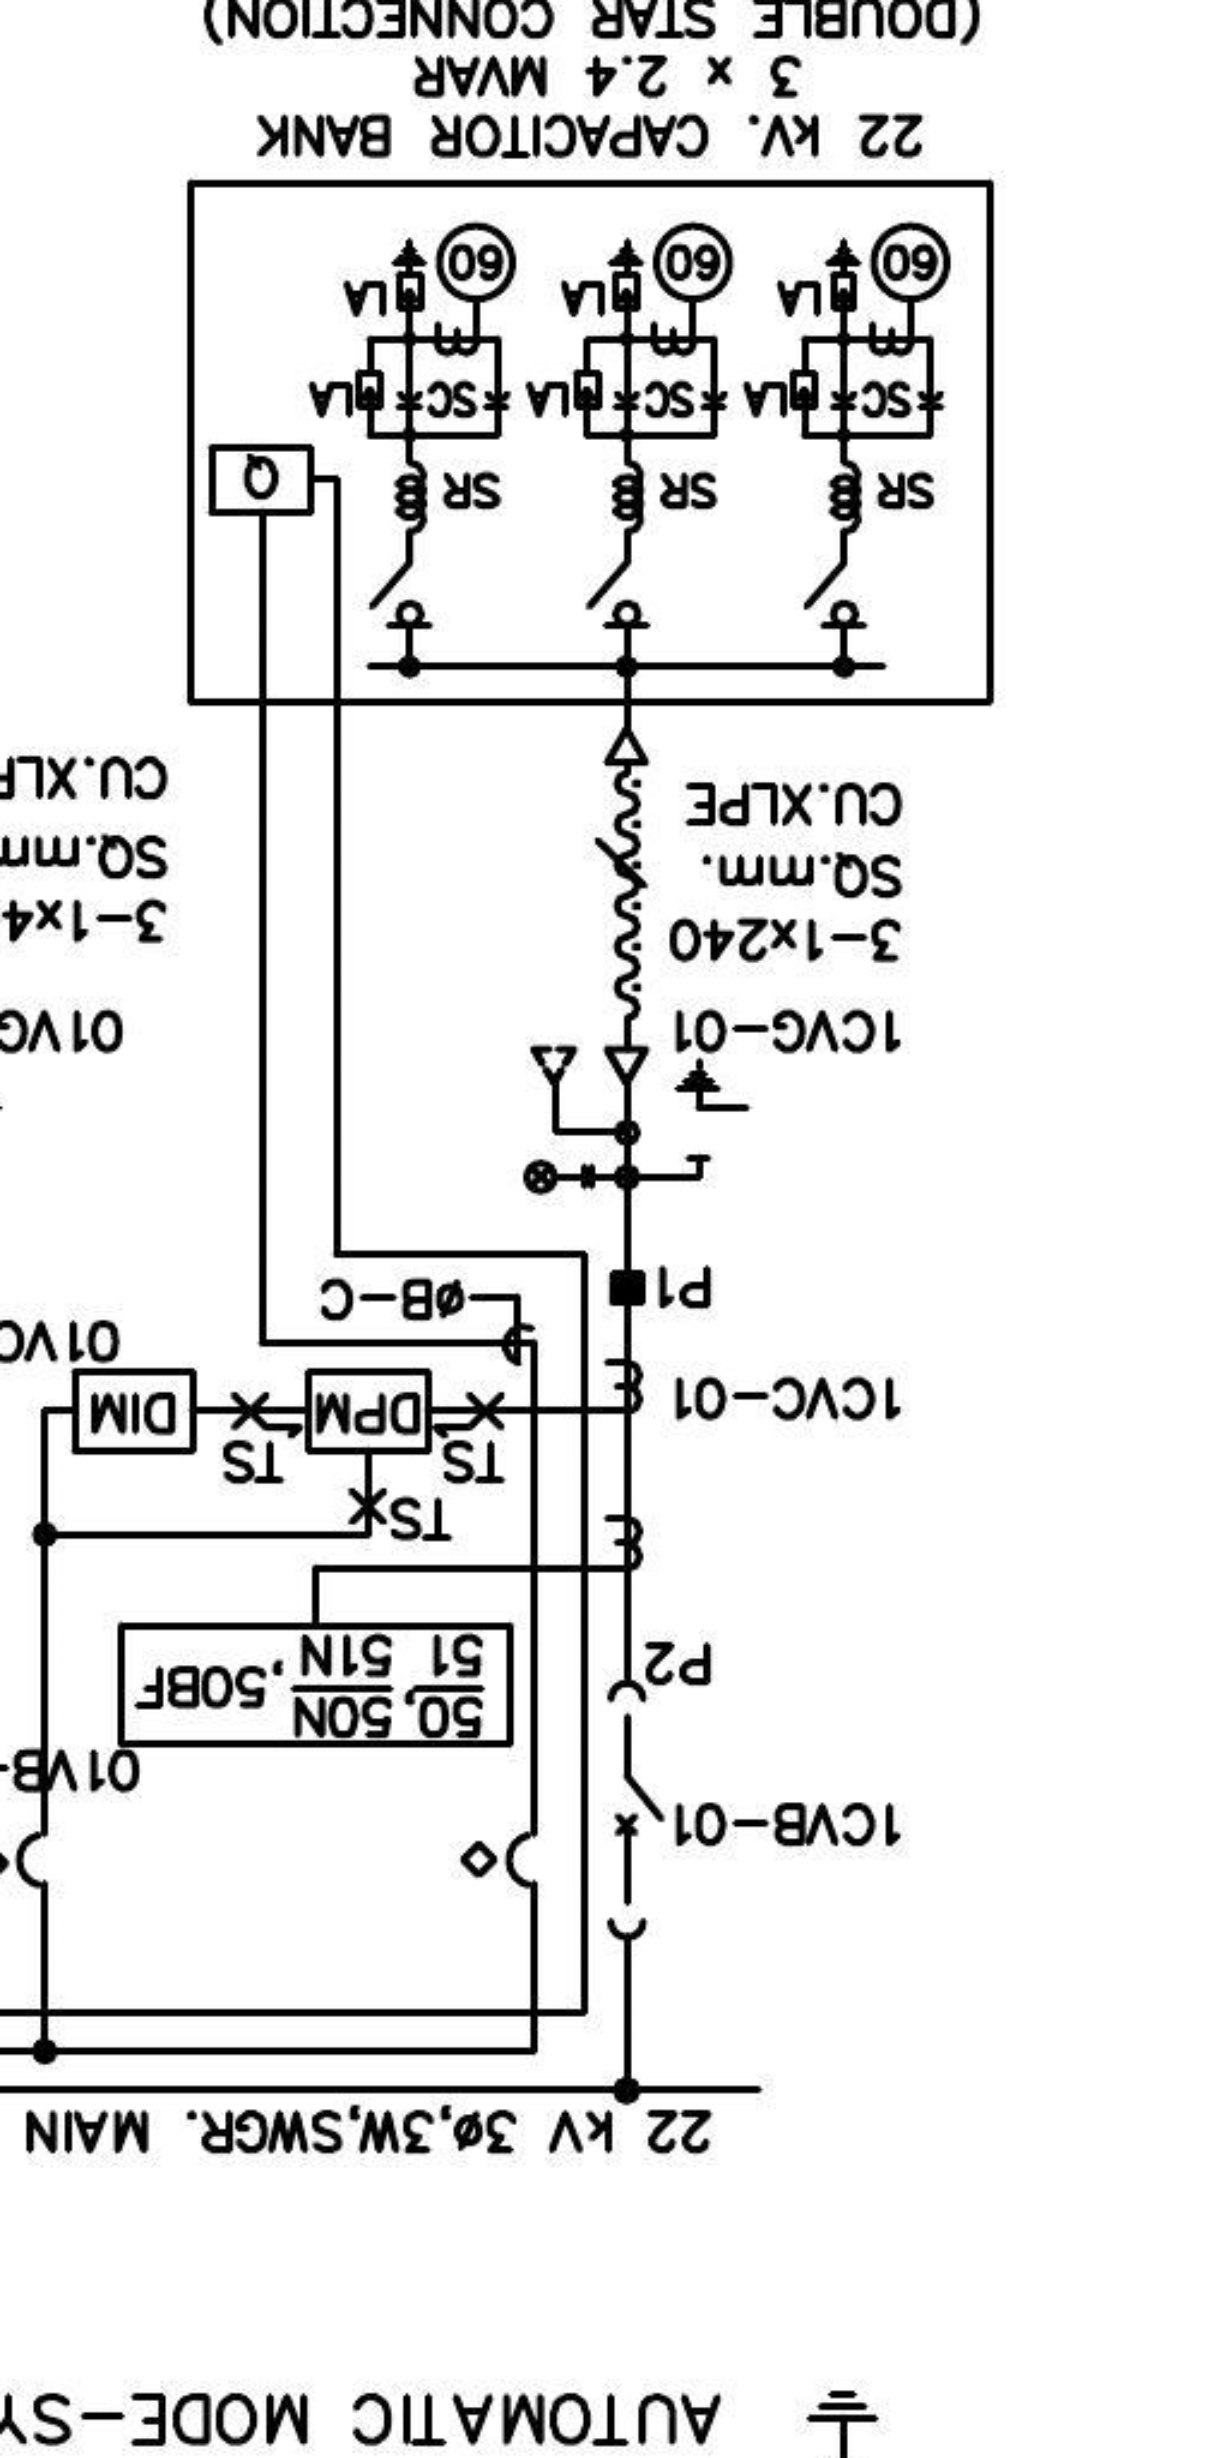22_breaker: (605, 1677, 667, 1942)
22_cap_bank: (185, 177, 996, 709)
22_gs: (673, 1055, 753, 1163)
22_ll: (521, 1157, 598, 1198)
DIM: (69, 1365, 199, 1456)
DPM: (303, 1365, 434, 1456)
Q: (207, 442, 317, 517)
terminator_single: (601, 726, 651, 768)
terminator_w_future: (529, 1044, 652, 1138)
